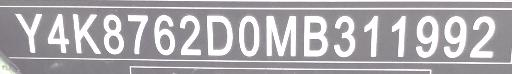letter: (262, 16, 298, 56), (12, 11, 44, 54), (70, 12, 100, 56), (204, 15, 234, 56), (358, 15, 386, 57), (148, 15, 176, 56), (329, 15, 357, 56), (176, 14, 204, 54), (234, 15, 262, 55), (300, 16, 328, 56), (440, 16, 468, 56), (44, 10, 70, 52), (469, 15, 495, 57), (124, 14, 150, 55), (415, 15, 439, 56), (100, 13, 124, 53), (388, 16, 412, 56)
